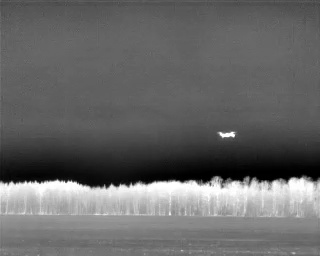DRONE: (213, 125, 240, 144)
